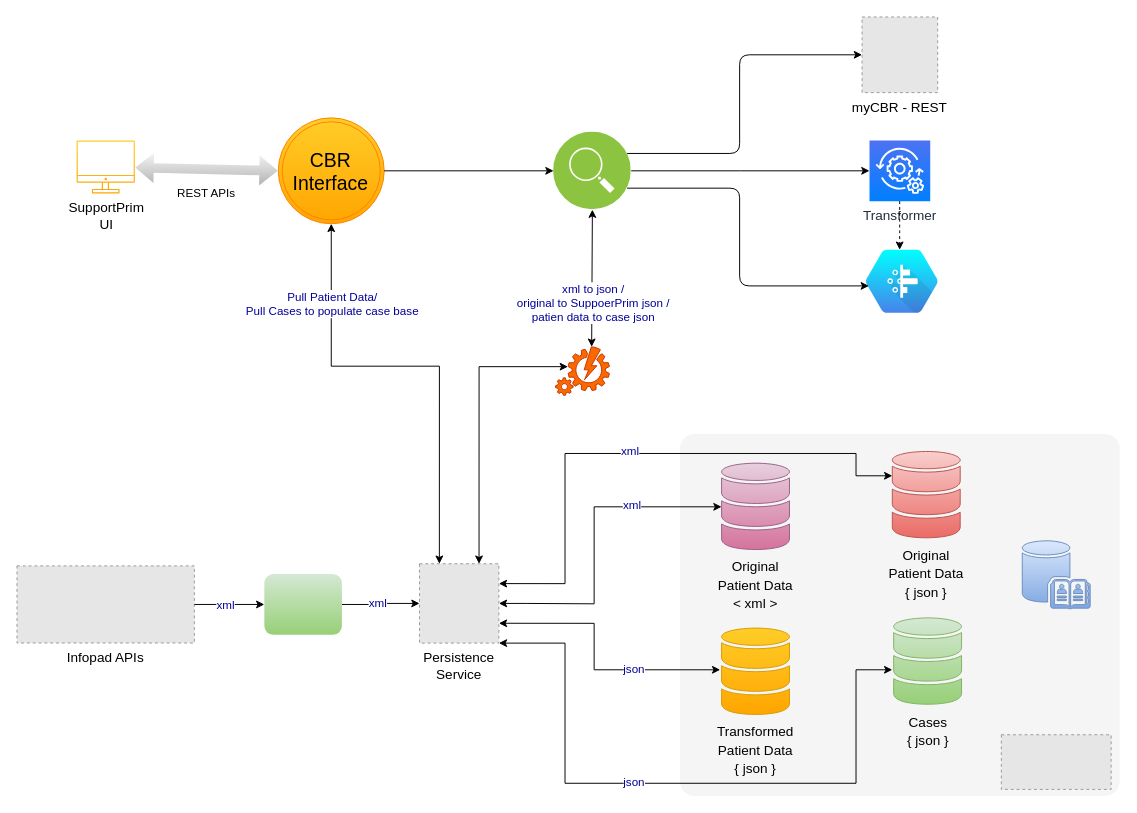
Some shapes in this 1137 by 813 pixel diagram are drawn without their labels. Grey dashed boxes stand in for pictures. Each missing label, with the centre of its shape:
"Data Processor" belongs at [582,370].
"Discovery Server" belongs at [592,170].
"Import Patient Data" belongs at [302,604].
"mapping" belongs at [901,280].
"User Data" belongs at [1055,574].
